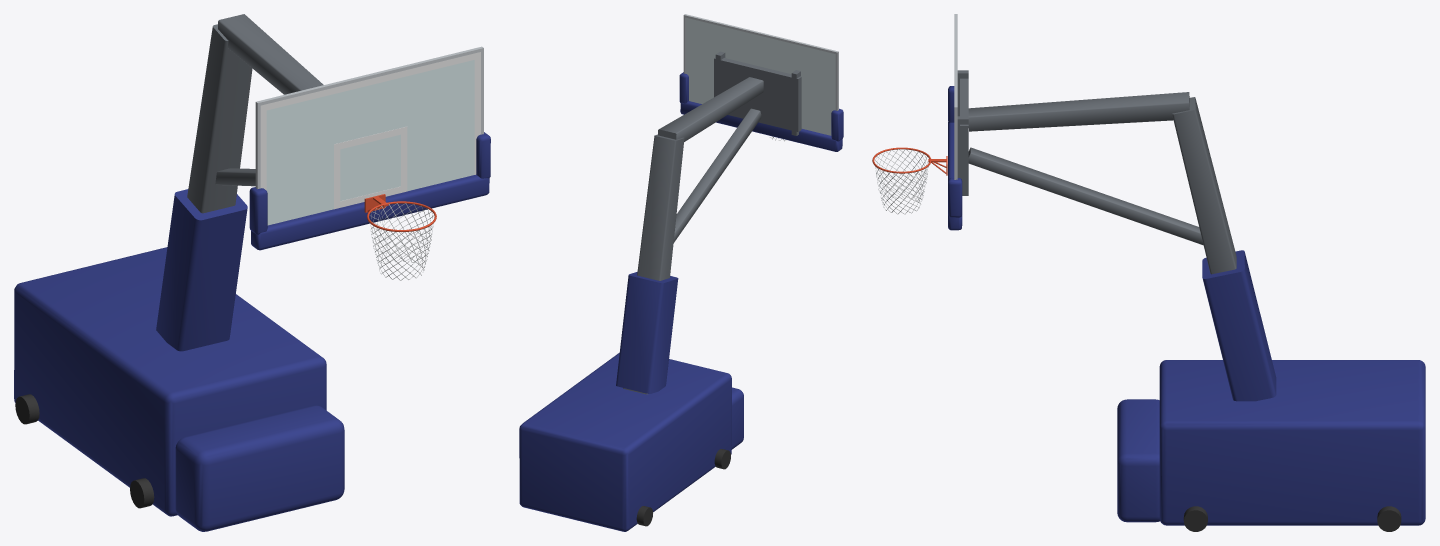
Rendered from vinish-arena-hoop.glb.
3 renders of one model, left to right at view 1: azimuth 30°, elevation 25°; view 2: azimuth 150°, elevation 25°; view 3: azimuth 270°, elevation 25°, orthographic. The views are drawn at different scales.
Parts seen in each view (by area): view 1: Arena_Hoop; view 2: Arena_Hoop; view 3: Arena_Hoop.
Boxes of the visible parts, left/top/right/bottom form: Arena_Hoop: left=14, top=14, right=490, bottom=531; Arena_Hoop: left=519, top=14, right=843, bottom=531; Arena_Hoop: left=872, top=14, right=1425, bottom=531.
Bounding box in the file's own units: 1.9 × 3.96 × 4.58.
8 materials, 1 textured.
